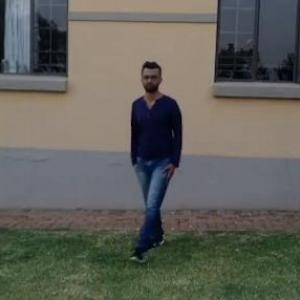follow: (129, 62, 184, 248)
